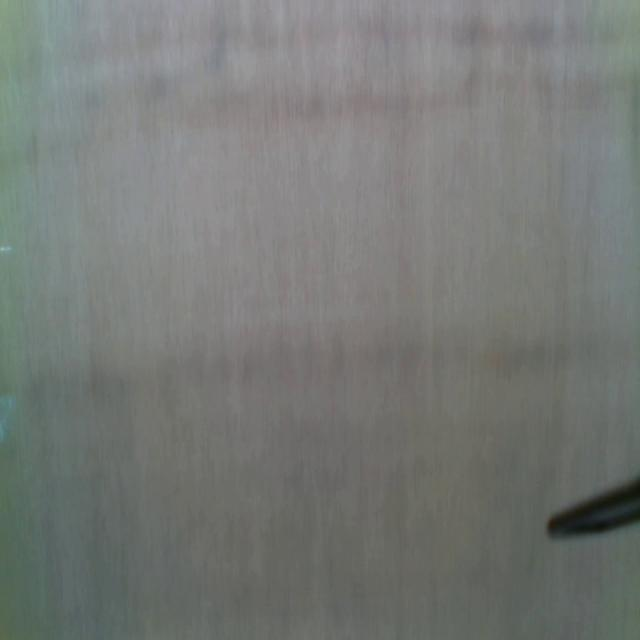color bleeding: (8, 1, 640, 159), (3, 322, 635, 420)
